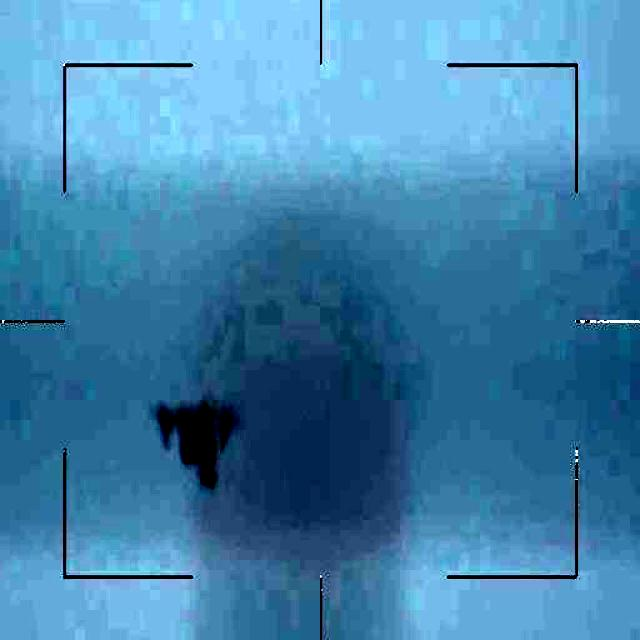bird: (152, 395, 240, 489)
